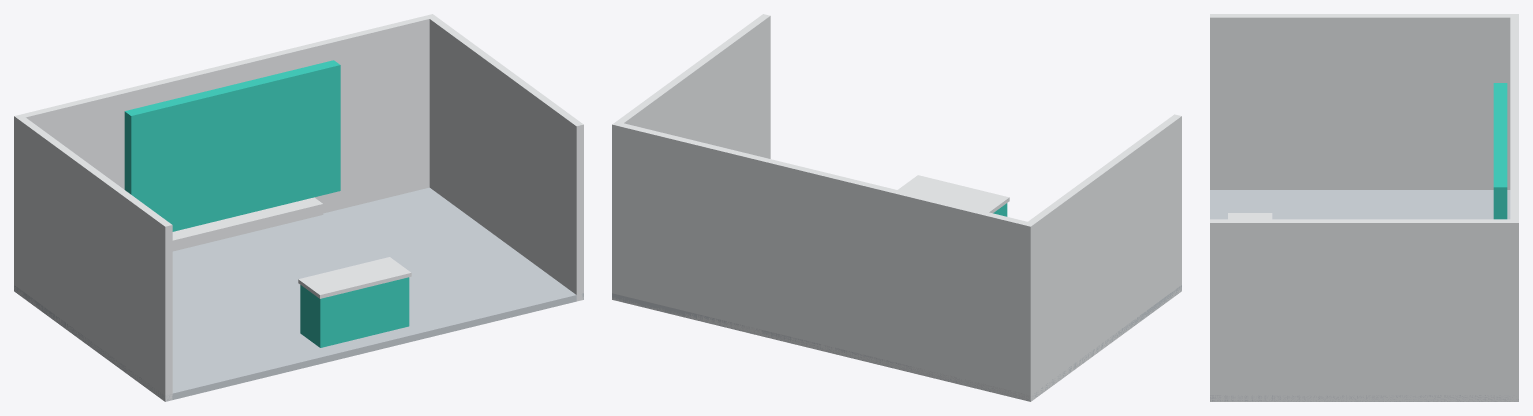
The picture shows the model from 3 angles, left to right: view 1: azimuth 30°, elevation 25°; view 2: azimuth 150°, elevation 25°; view 3: azimuth 270°, elevation 25°; orthographic projection. The views are drawn at different scales.
Parts seen in each view (by area): view 1: Exhibition Booth Concept; view 2: Exhibition Booth Concept; view 3: Exhibition Booth Concept.
Boxes of the visible parts, x1,y1,x2,y2 form: Exhibition Booth Concept: (14, 14, 583, 401); Exhibition Booth Concept: (612, 14, 1181, 401); Exhibition Booth Concept: (1210, 14, 1518, 401).
Bounding box in the file's own units: 8 × 3.2 × 5.
